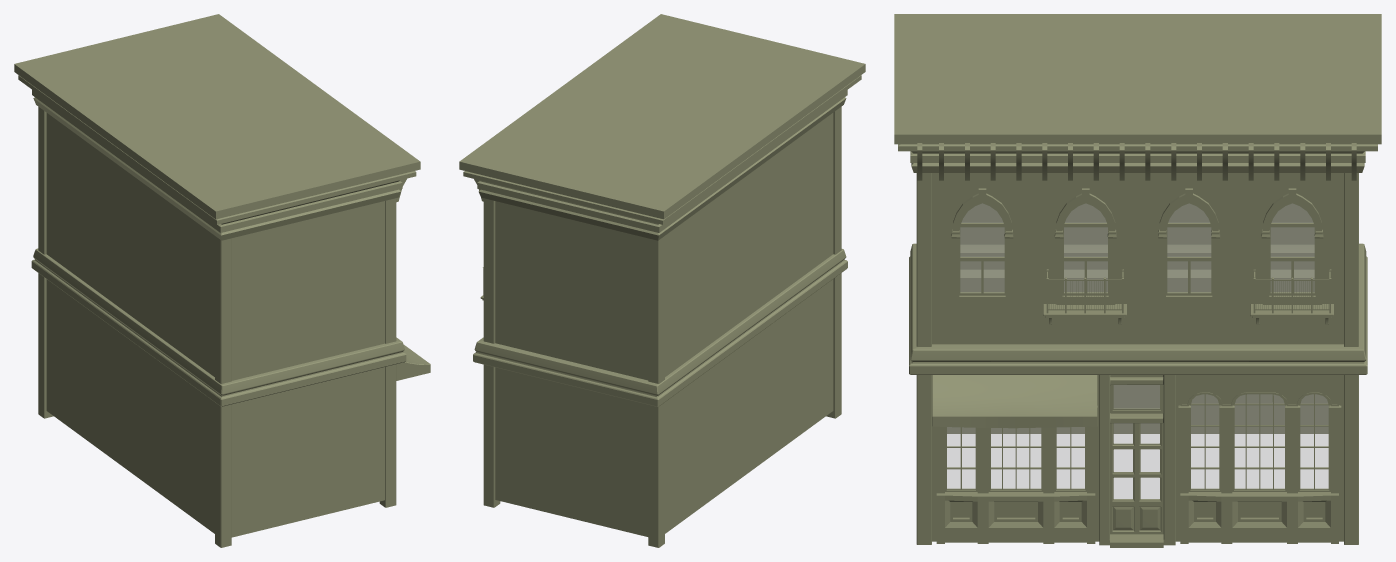
Rendered from Building_8.fbx.
3 renders of one model, left to right at view 1: azimuth 30°, elevation 25°; view 2: azimuth 150°, elevation 25°; view 3: azimuth 270°, elevation 25°, orthographic. The views are drawn at different scales.
Parts seen in each view (by area): view 1: Building_8_GEO; view 2: Building_8_GEO; view 3: Building_8_GEO.
Part boxes in pixels (bbox=[...]): Building_8_GEO: bbox=[14, 14, 430, 547]; Building_8_GEO: bbox=[459, 14, 865, 547]; Building_8_GEO: bbox=[894, 14, 1381, 547].
Size of the model in its own units: 5.47 by 7.82 by 8.24.
